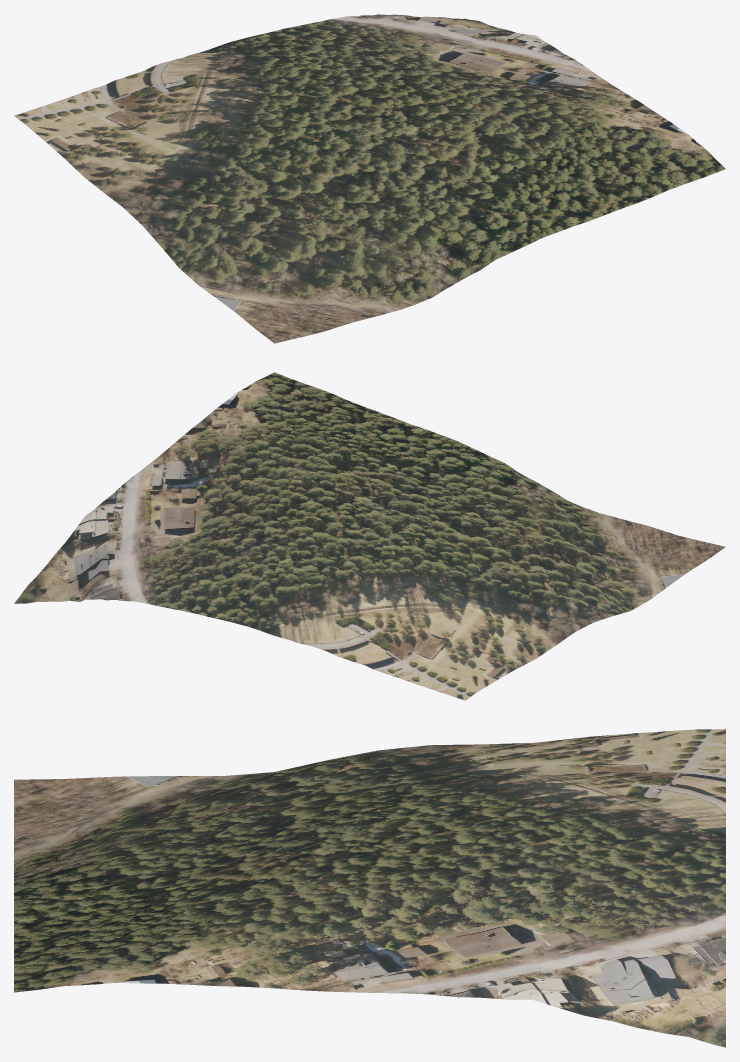
Rendered from CM_Terrain_24492097_6818975.fbx.
The picture shows the model from 3 angles, top to bottom: view 1: azimuth 30°, elevation 25°; view 2: azimuth 150°, elevation 25°; view 3: azimuth 270°, elevation 25°; orthographic projection. The views are drawn at different scales.
Visible parts, largest first — view 1: CM_Terrain_24492097_6818975_LOD0; view 2: CM_Terrain_24492097_6818975_LOD0; view 3: CM_Terrain_24492097_6818975_LOD0.
Boxes of the visible parts, x1,y1,x2,y2 form: CM_Terrain_24492097_6818975_LOD0: [14, 14, 725, 343]; CM_Terrain_24492097_6818975_LOD0: [14, 372, 725, 700]; CM_Terrain_24492097_6818975_LOD0: [14, 729, 725, 1047].
Size of what is drawn, in the model's own units: 205 by 33.2 by 205.
